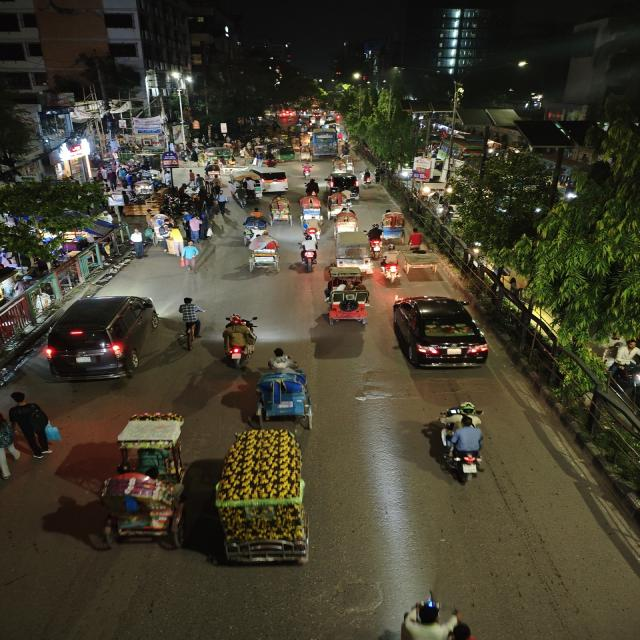bicycle: (175, 295, 206, 345)
bus: (308, 129, 338, 158)
car: (43, 291, 162, 385), (388, 293, 494, 372), (260, 166, 292, 193), (328, 171, 361, 197)
cng: (334, 230, 372, 276), (274, 147, 297, 163)
human_hauler: (229, 172, 264, 202)
motorcycle: (428, 401, 498, 487), (219, 312, 260, 370), (378, 247, 407, 287), (296, 232, 321, 272), (366, 225, 385, 256), (304, 177, 321, 198), (299, 160, 315, 178)
pedestrian: (1, 388, 54, 462), (129, 225, 151, 259), (180, 240, 201, 274), (213, 186, 232, 218), (167, 223, 184, 256), (160, 223, 177, 255), (188, 212, 206, 242)
rickshaw: (206, 425, 325, 572), (90, 412, 198, 554), (247, 347, 322, 427), (322, 274, 374, 328), (400, 232, 442, 278), (244, 232, 281, 276), (376, 207, 410, 242), (266, 194, 293, 226), (333, 206, 361, 234), (298, 194, 323, 224), (202, 164, 225, 181)
